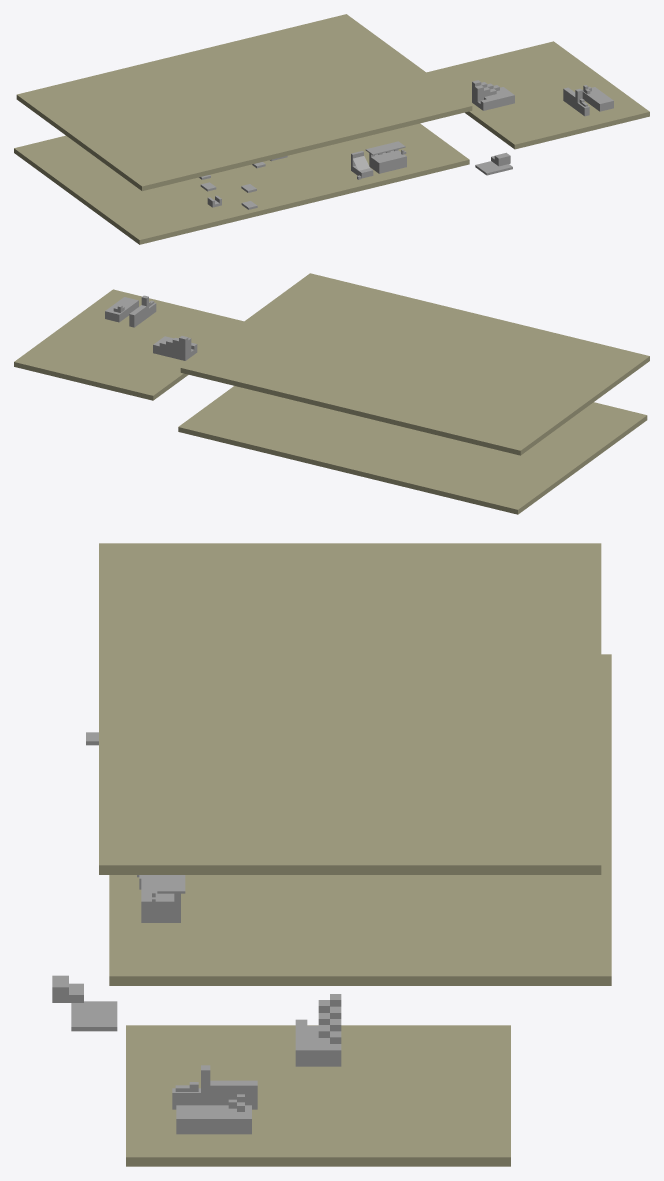
The picture shows the model from 3 angles, top to bottom: view 1: azimuth 30°, elevation 25°; view 2: azimuth 150°, elevation 25°; view 3: azimuth 270°, elevation 25°; orthographic projection. The views are drawn at different scales.
Parts seen in each view (by area): view 1: ceiling, floor_1, floor_2, puzz4, pCube15, pCube19, pCube18, puzz5; view 2: ceiling, floor_1, floor_2, puzz4, pCube19, pCube18; view 3: ceiling, floor_1, floor_2, puzz4, pCube19, pCube18, pCube15, pCube22.
Boxes of the visible parts, x1,y1,x2,y2 form: ceiling: (16,14,472,191); floor_1: (14,123,469,244); floor_2: (426,41,649,149); puzz4: (472,80,514,110); pCube15: (369,149,406,173); pCube19: (582,87,613,111); pCube18: (563,87,589,116); puzz5: (351,151,373,178); ceiling: (180,273,649,455); floor_1: (178,386,647,514); floor_2: (14,289,243,400); puzz4: (153,336,197,360); pCube19: (105,297,138,322); pCube18: (129,295,156,327); ceiling: (99,543,601,874); floor_1: (109,654,611,985); floor_2: (126,1025,510,1166); puzz4: (295,994,341,1066); pCube19: (176,1105,251,1134); pCube18: (172,1065,257,1109); pCube15: (141,875,180,922); pCube22: (71,1001,117,1031).
Size of the model in its own units: 21289 by 2625 by 10018.
